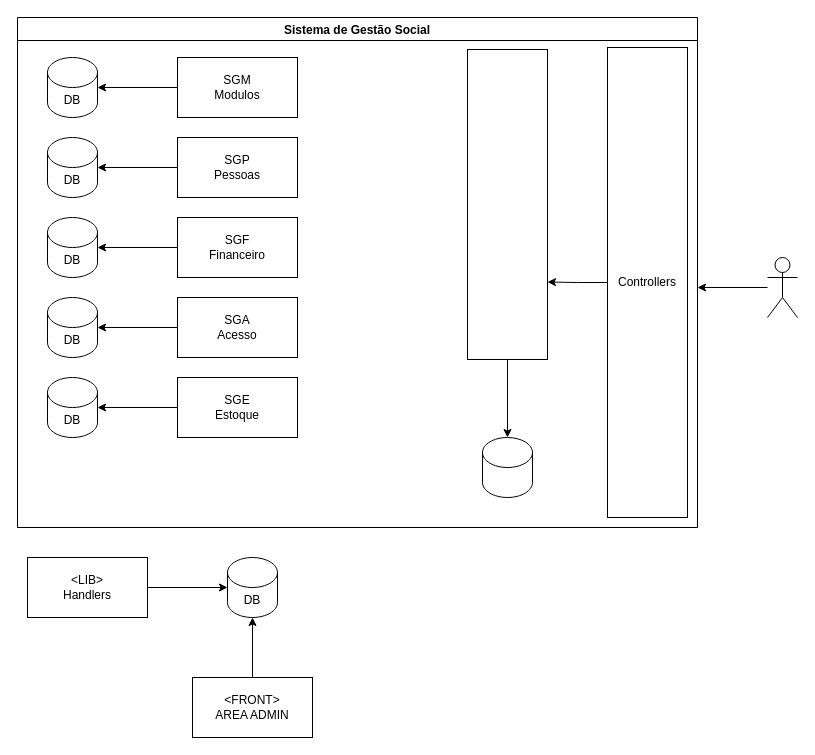
The diagram is 815 pixels wide and 755 high, and some of its shapes have lost their labels. Here are the shapes that lost their labels. From the top down, the centre of each, then its label:
At point (507, 204): "Services".
At point (782, 287): "Actor".
At point (507, 467): "Cache".
